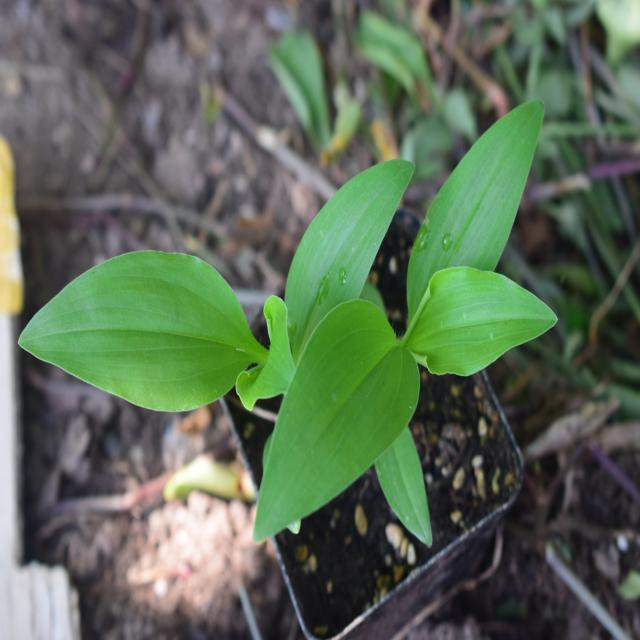Common Dayflower: (241, 113, 568, 548), (21, 226, 253, 441)
